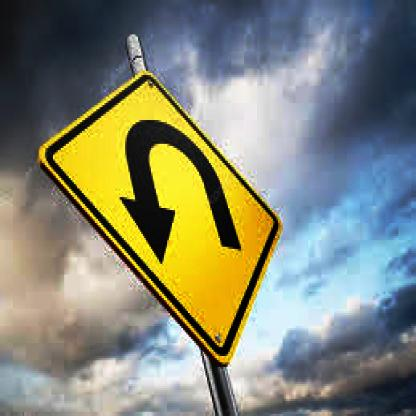U-turn: (36, 63, 282, 372)
